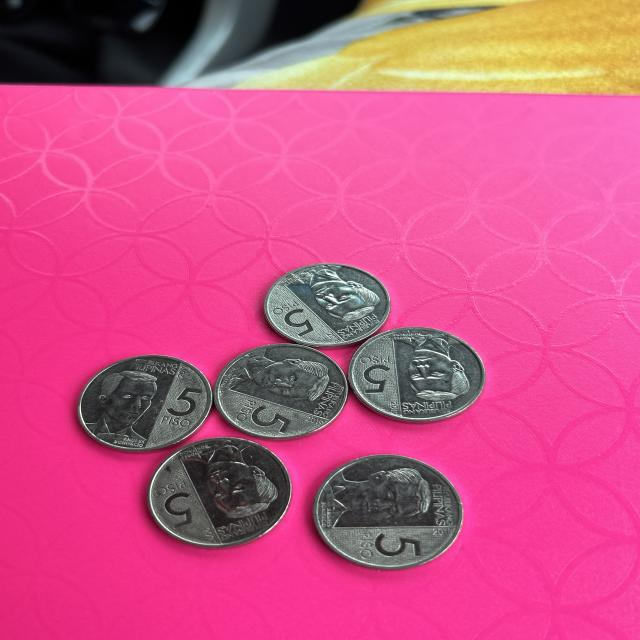5_New_Front: (230, 392, 290, 438), (153, 478, 205, 528), (356, 527, 418, 567), (354, 348, 396, 396), (268, 302, 320, 339), (159, 384, 197, 433)
